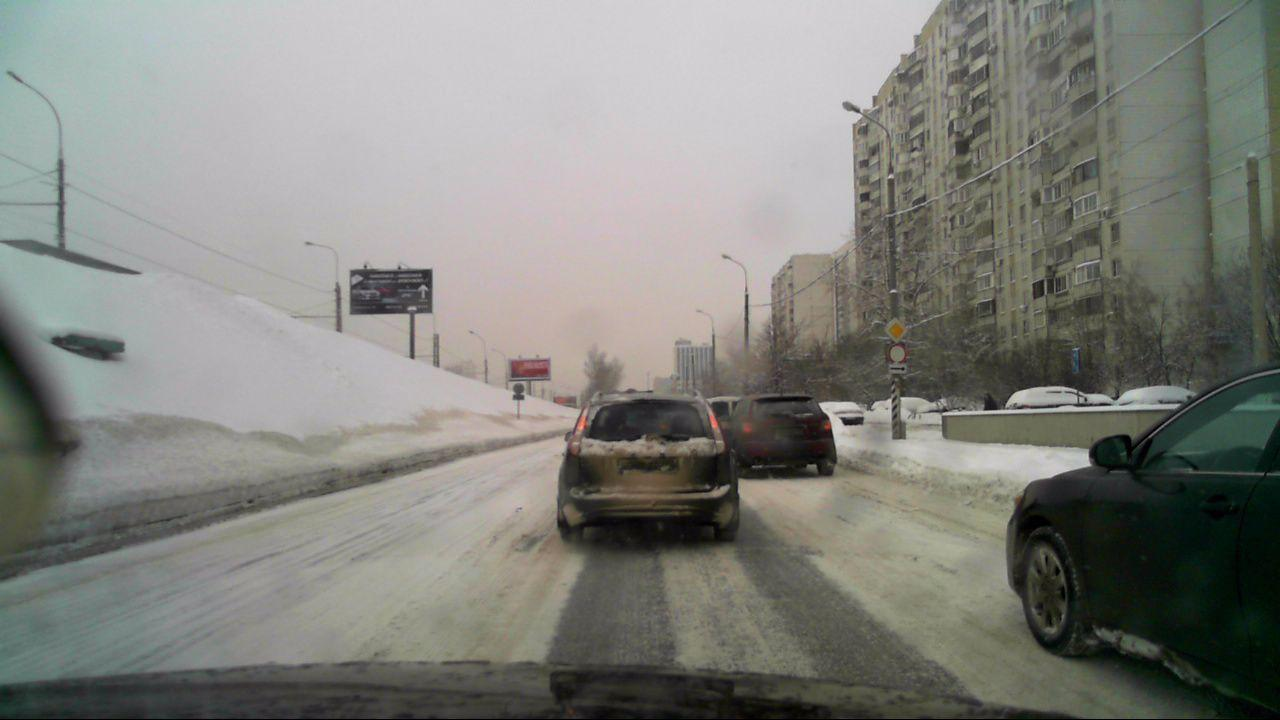2_1: (884, 318, 908, 340)
3_2: (887, 342, 907, 362)
5_21: (1070, 349, 1082, 372)
8_3_1: (888, 364, 908, 375)
